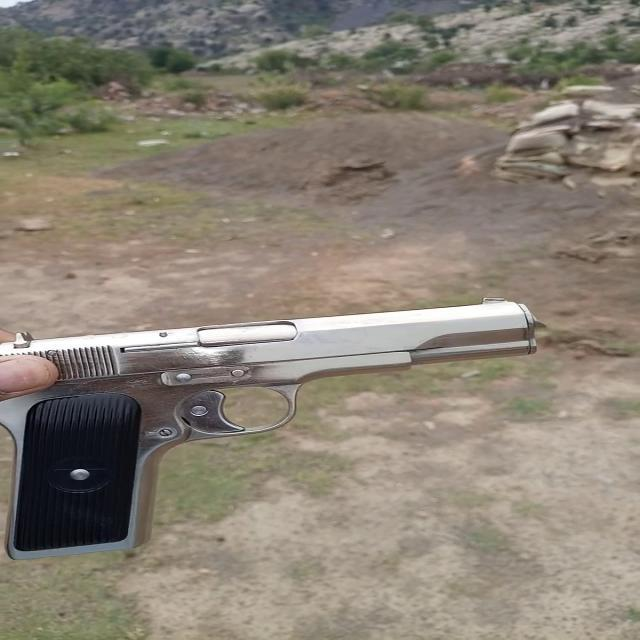Handgun: (0, 292, 544, 565)
